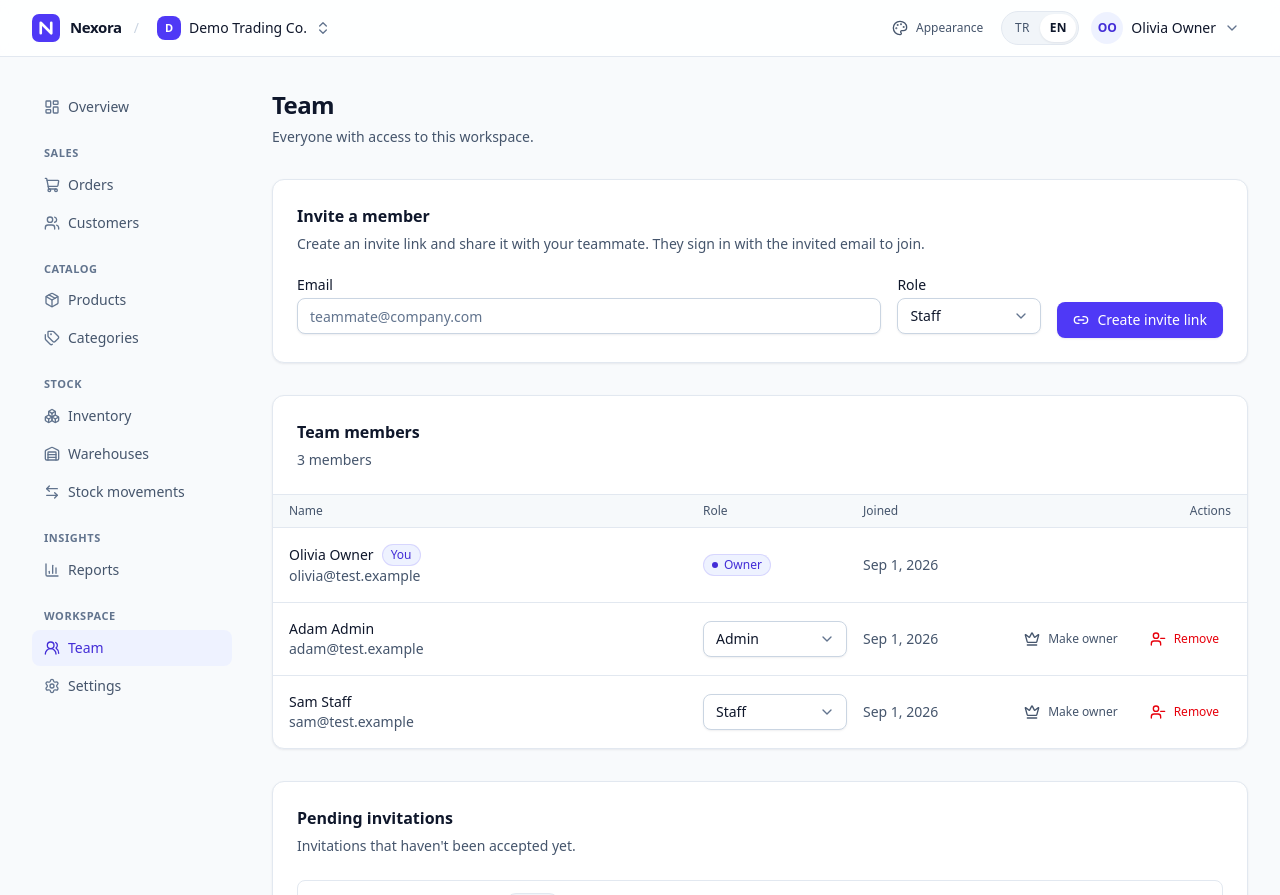
Test: TeamPage invitations › validates the invitation form
Step 1. Click the button "Create invite link" → x=1140, y=320, box [1057,302,1223,338]
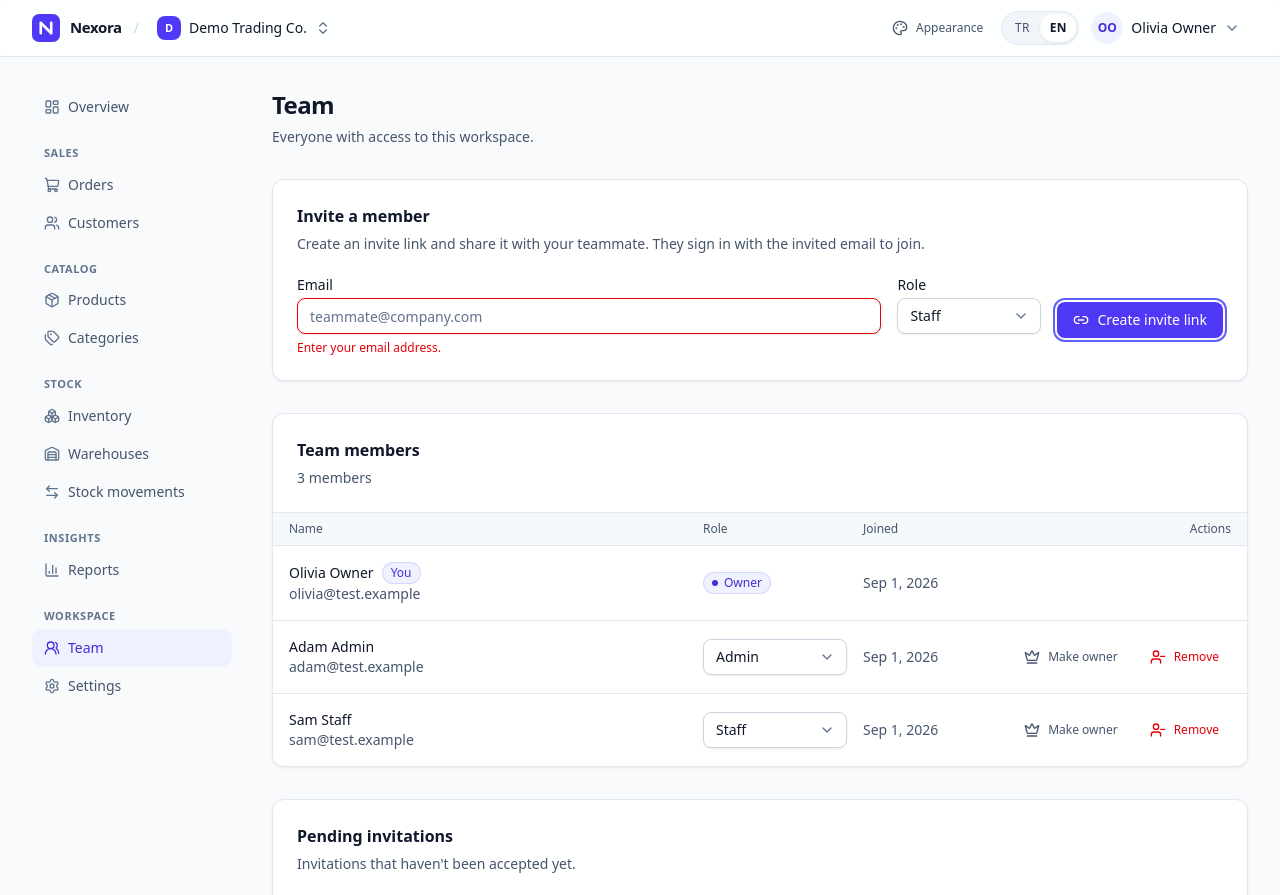
Expected: the text "Enter your email address." is shown, [297,339,441,356]
